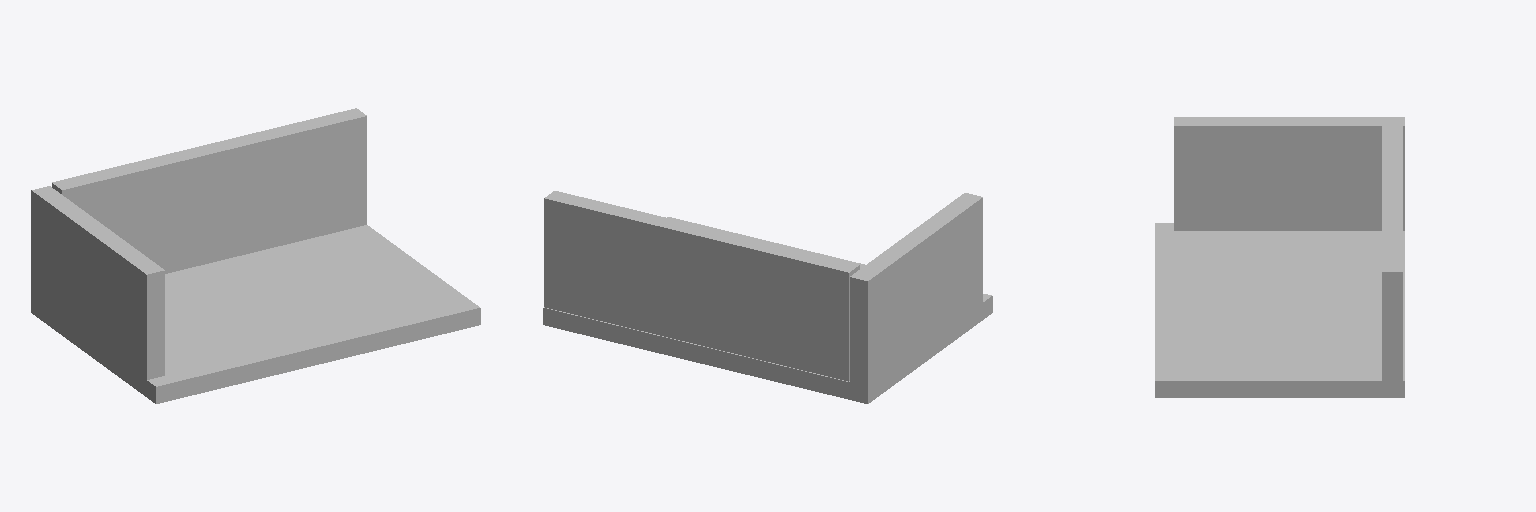
File: lit_room.obj
The picture shows the model from 3 angles: view 1: azimuth 30°, elevation 25°; view 2: azimuth 150°, elevation 25°; view 3: azimuth 270°, elevation 25°; orthographic projection.
Parts seen in each view (by area): view 1: Cube, Cube.002, Cube.006, Cube.001, Cube.004, Cube.005, Cube.003; view 2: Cube.002, Cube, Cube.001, Cube.006, Cube.003, Cube.004, Cube.005; view 3: Cube, Cube.002, Cube.005, Cube.003, Cube.006, Cube.004, Cube.001.
Boxes of the visible parts, box(x1,y1,x2,y2) form: Cube: box(31, 225, 480, 403); Cube.002: box(52, 108, 366, 273); Cube.006: box(124, 254, 164, 379); Cube.001: box(31, 186, 73, 312); Cube.004: box(77, 219, 117, 345); Cube.005: box(101, 236, 141, 362); Cube.003: box(55, 204, 93, 328); Cube.002: box(544, 191, 859, 381); Cube: box(543, 217, 992, 403); Cube.001: box(850, 260, 891, 386); Cube.006: box(941, 193, 982, 319); Cube.003: box(873, 244, 914, 369); Cube.004: box(895, 226, 937, 351); Cube.005: box(919, 210, 959, 334); Cube: box(1155, 223, 1404, 397); Cube.002: box(1382, 123, 1402, 380); Cube.005: box(1219, 117, 1267, 230); Cube.003: box(1310, 117, 1358, 230); Cube.006: box(1174, 117, 1221, 230); Cube.004: box(1265, 117, 1313, 230); Cube.001: box(1356, 117, 1404, 230).
Size of the model in its own units: 16.46 by 6.13 by 10.95.